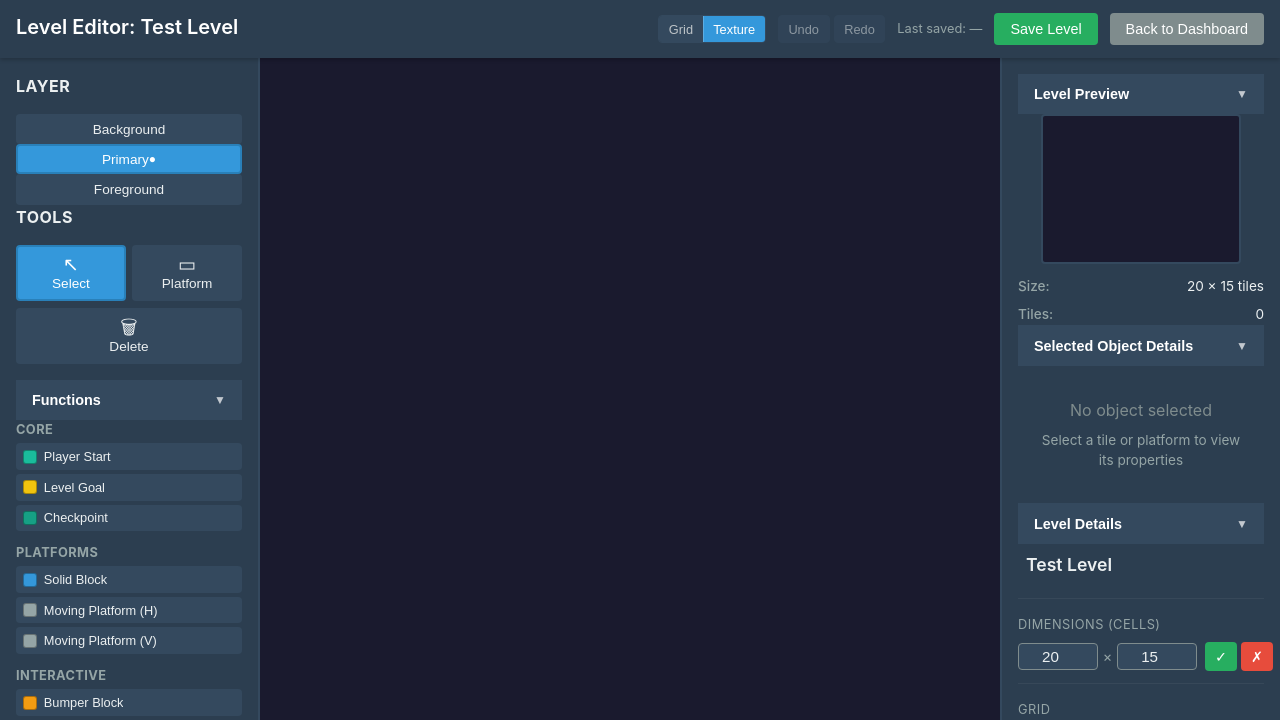
Scenario: LevelEditor Integration Tests › Level Save Functionality › should handle save failure gracefully
Click the button "Save Level" at {"x": 1046, "y": 29}, box x1=994 y1=13 x2=1098 y2=45
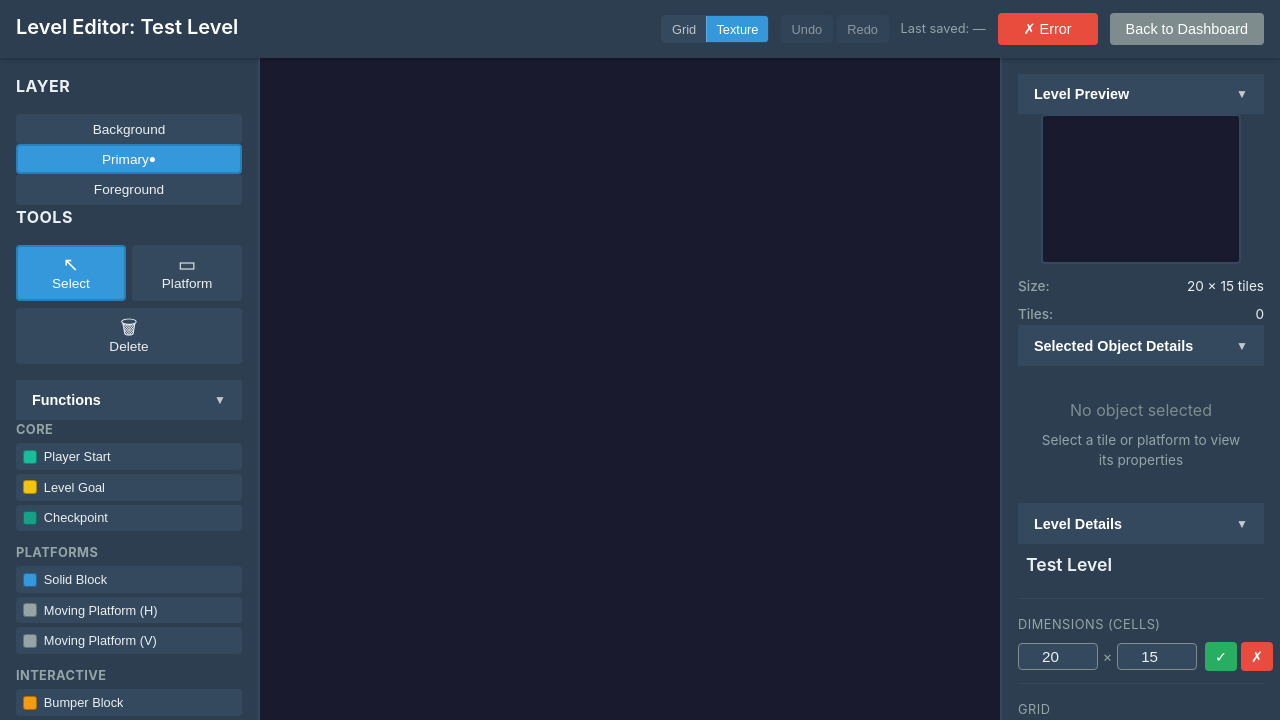
Result: the button "✗ Error" is shown at x1=998 y1=13 x2=1098 y2=45
